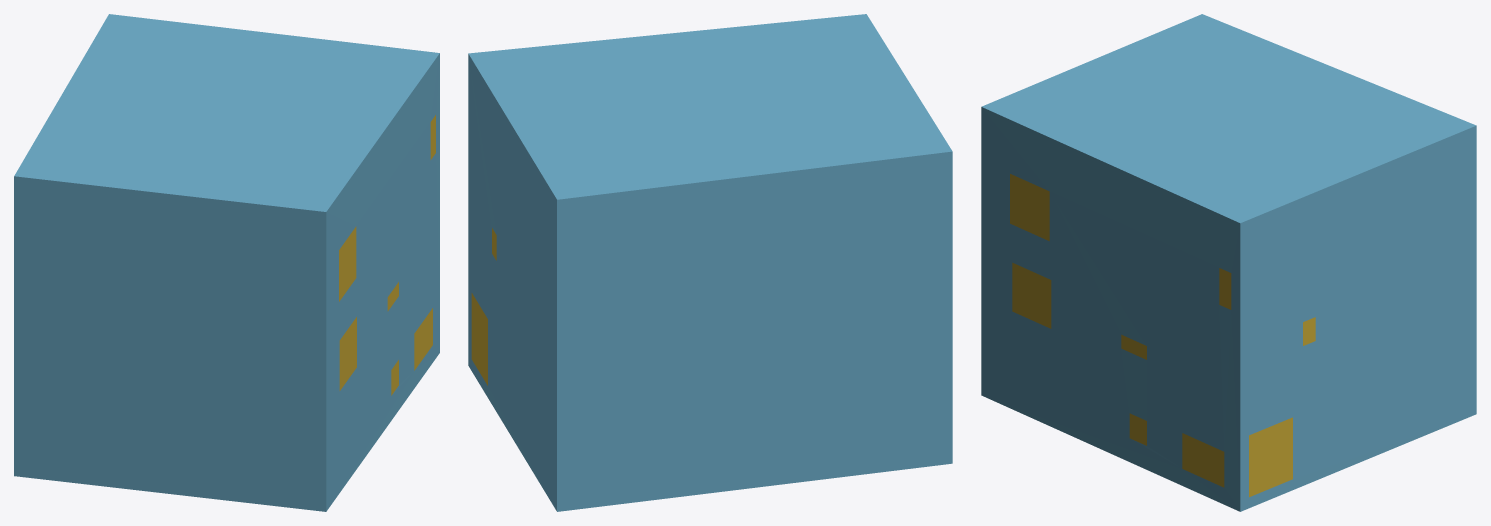
Rendered from bldg_1216d441-21d0-4f16-897b-eb90eaafd91c.obj.
The picture shows the model from 3 angles, left to right: view 1: azimuth 30°, elevation 25°; view 2: azimuth 150°, elevation 25°; view 3: azimuth 270°, elevation 25°; orthographic projection. The views are drawn at different scales.
Bounding box in the file's own units: 15.03 × 9.67 × 15.03.
